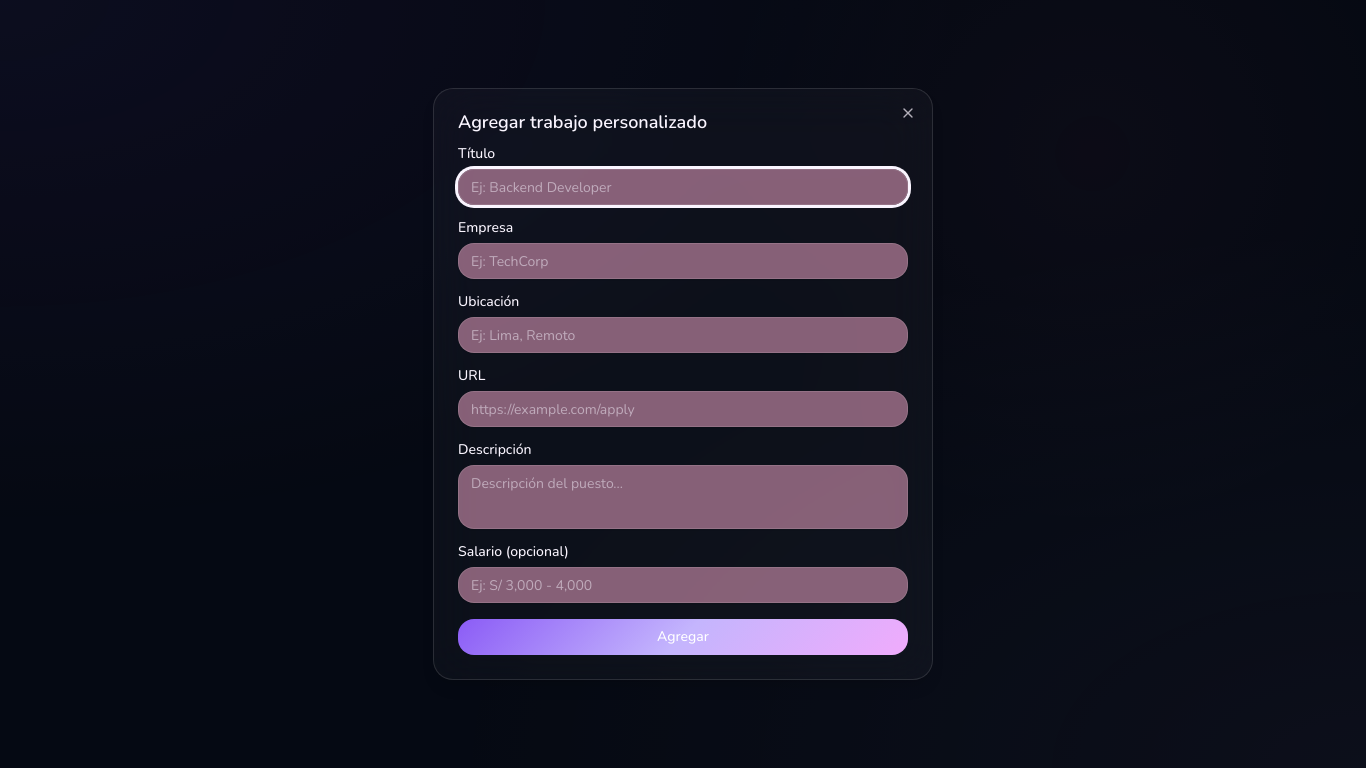
Scenario: AddJobModal › shows error on API failure
This screenshot has width=1366, height=768.
In the field labelled "Título": (683, 187) [458,169,908,205], type "Manual Job"
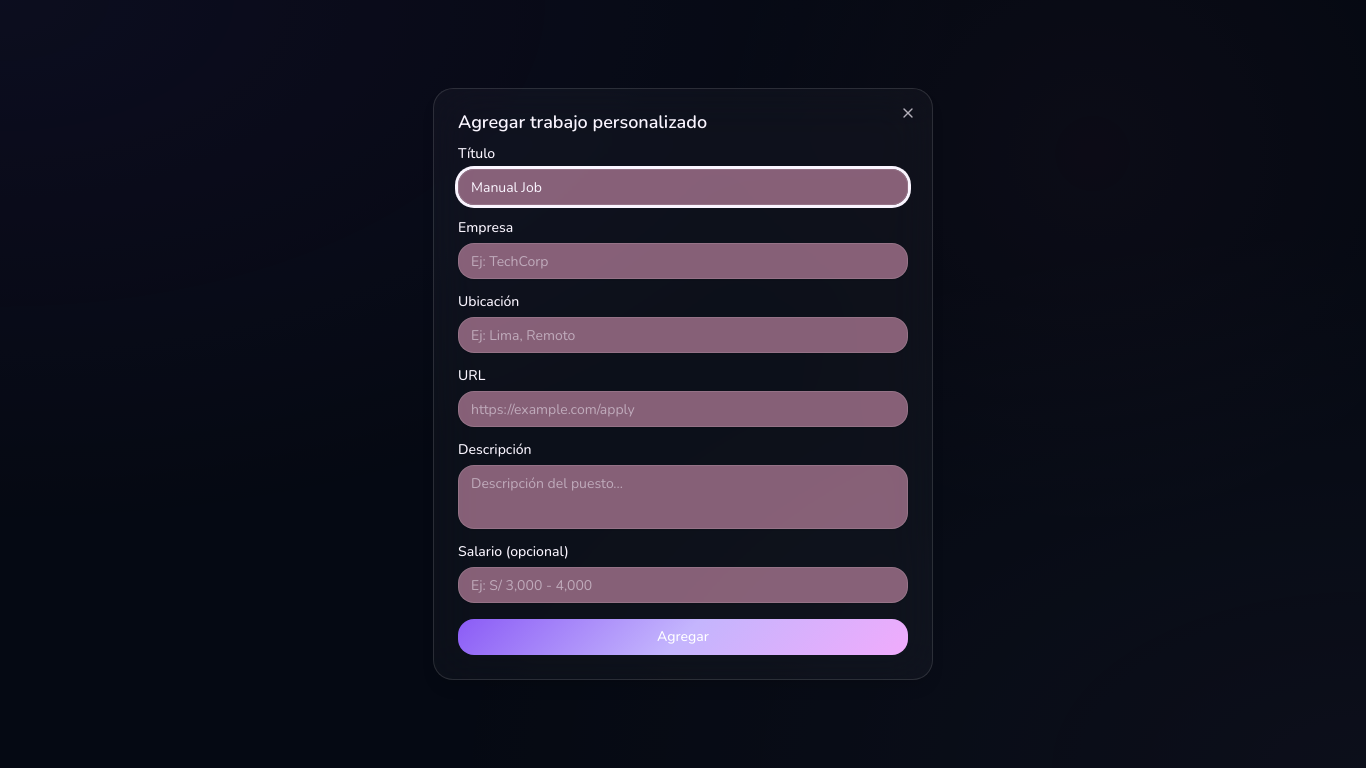
In the field labelled "Empresa": (683, 261) [458,243,908,279], type "Acme"
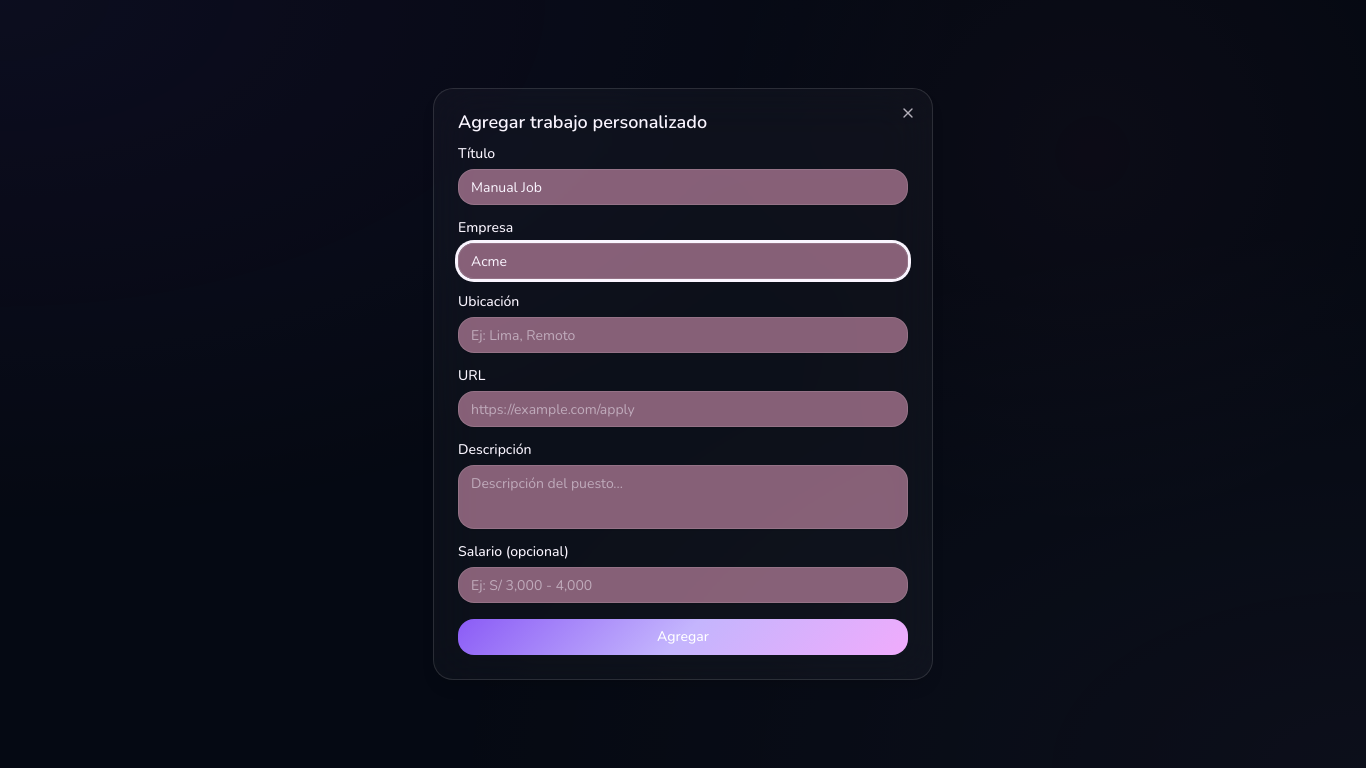
In the field labelled "Ubicación": (683, 335) [458,317,908,353], type "Lima"
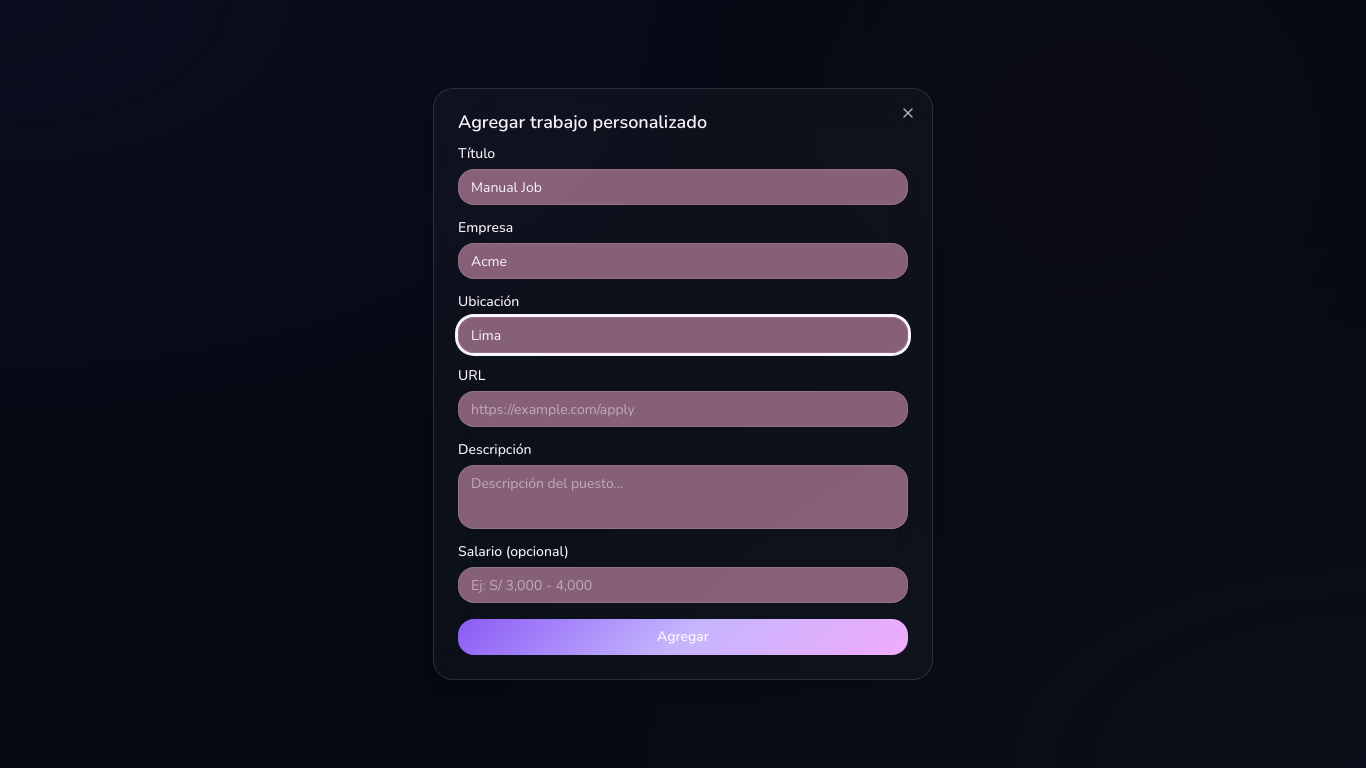
In the field labelled "URL": (683, 409) [458,391,908,427], type "https://example.com"
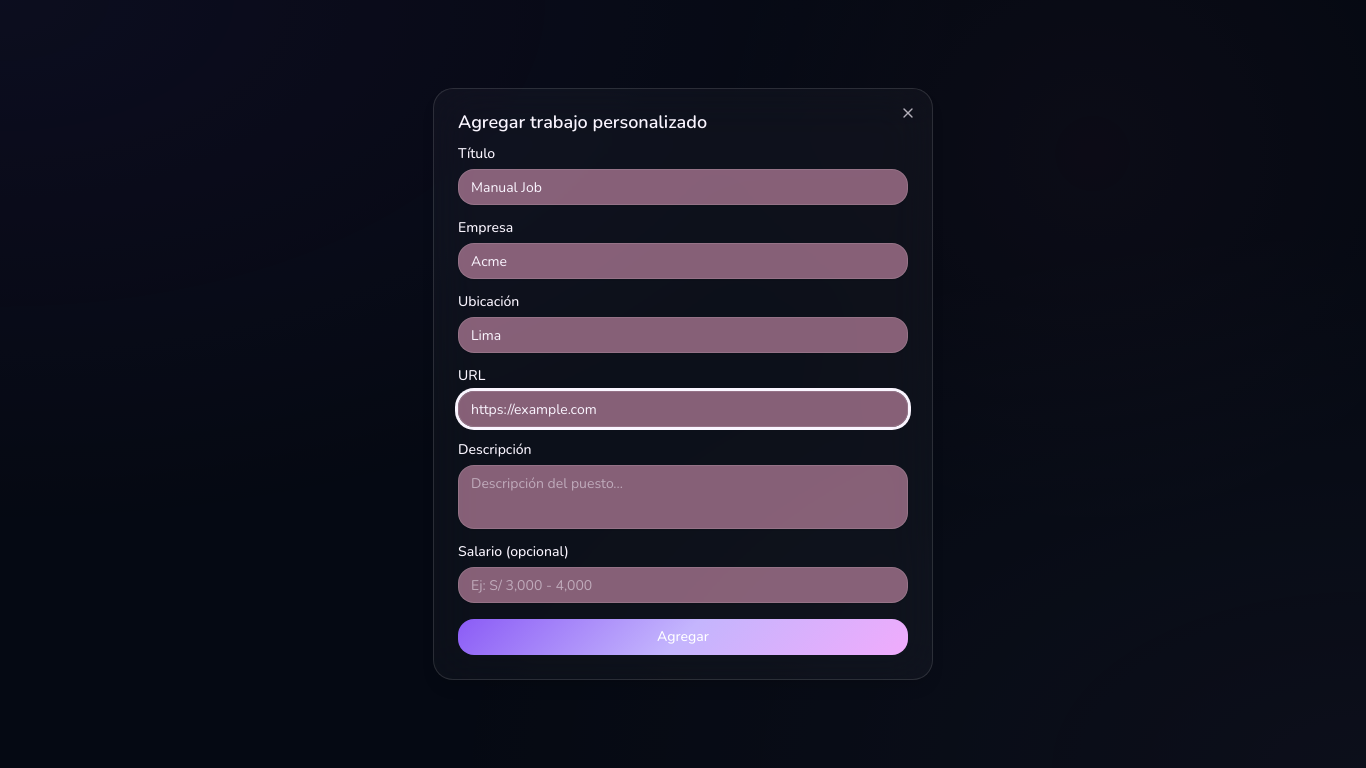
In the text box labelled "Descripción": (683, 497) [458,465,908,529], type "Desc"
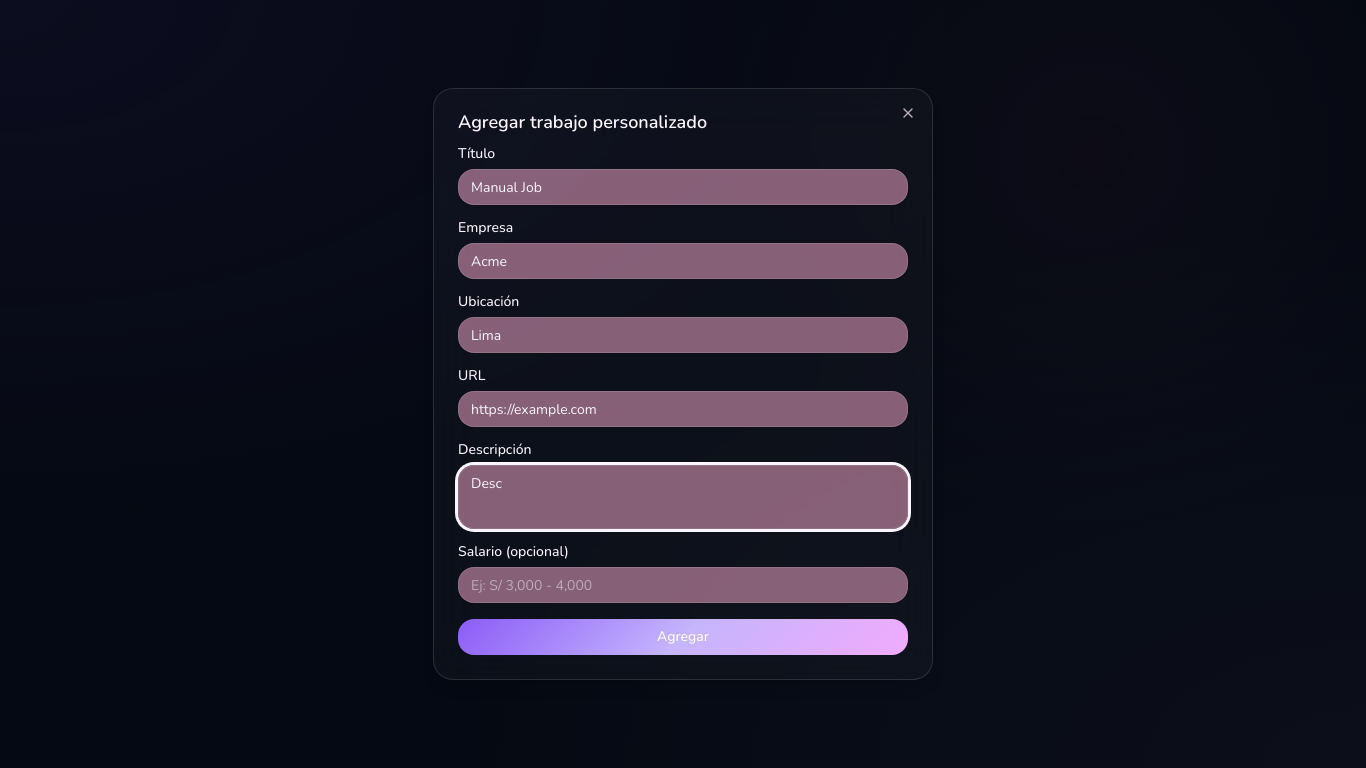
Click the button "Agregar": (683, 637) [458,619,908,655]
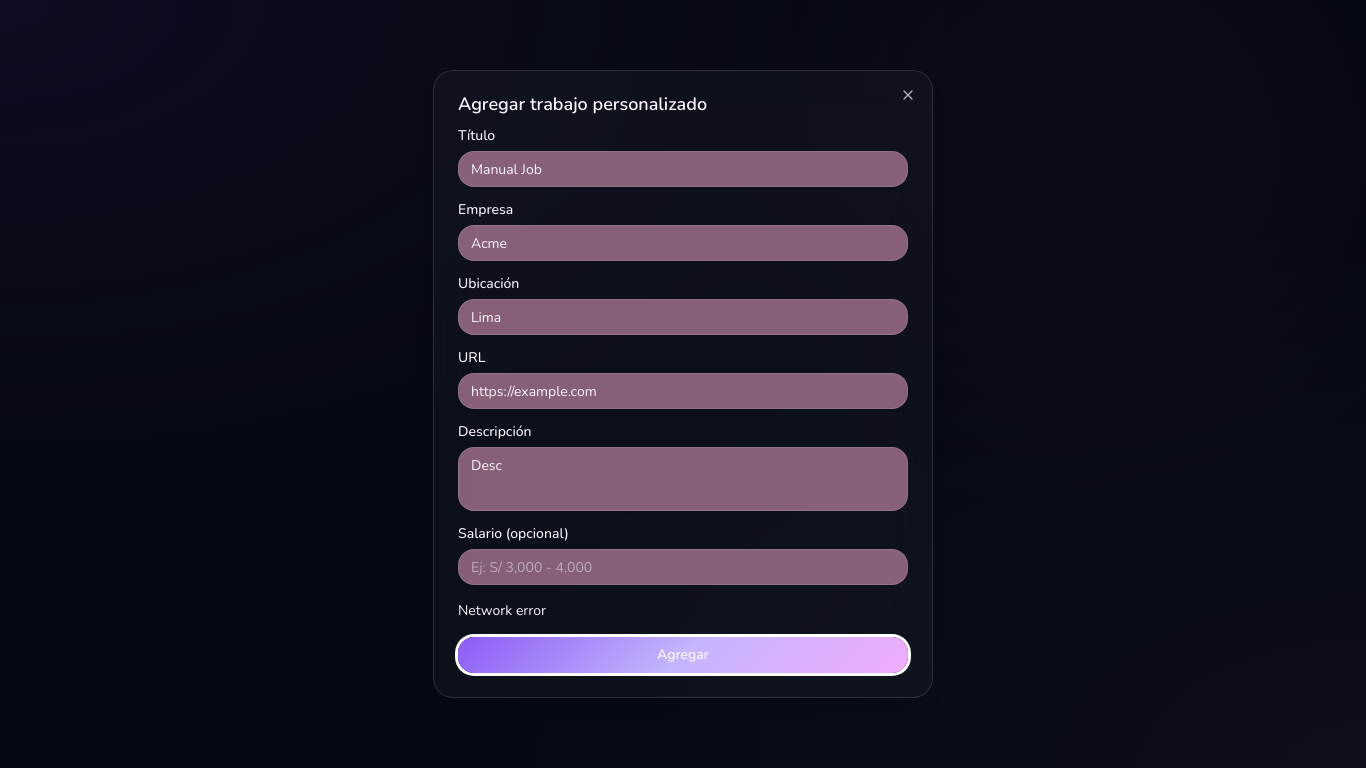
expect the text "Network error" is shown: met, box [458,601,546,620]
